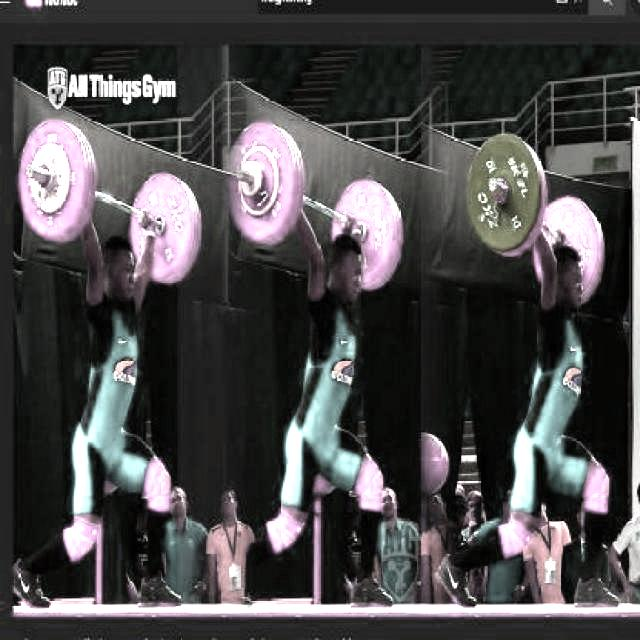barbell: (462, 131, 542, 257), (17, 111, 88, 245), (227, 121, 296, 243)
